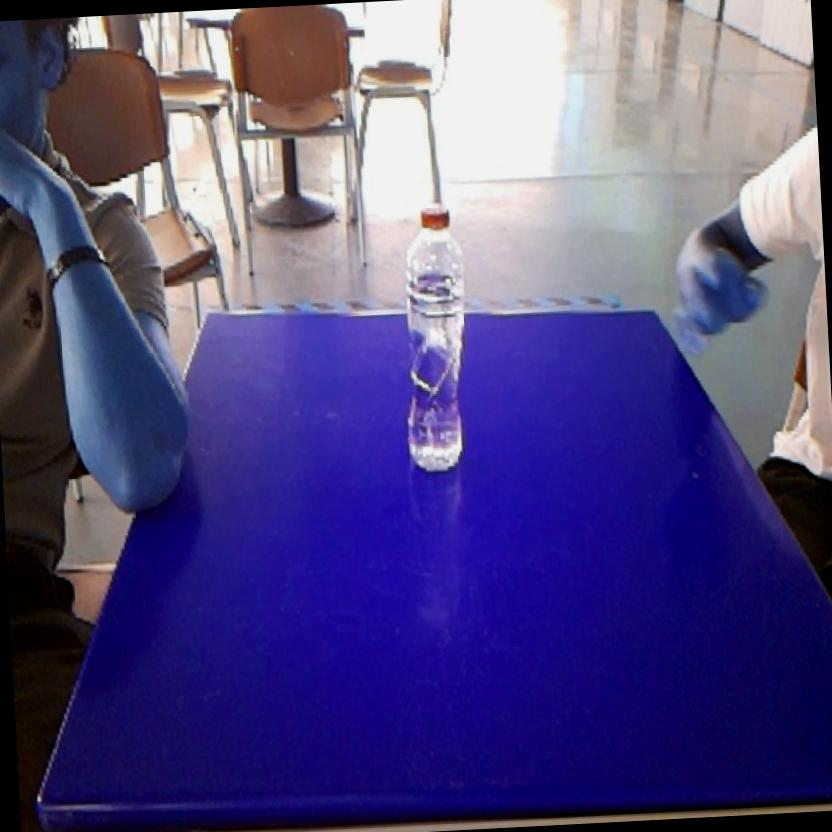no_label: (387, 187, 481, 478)
